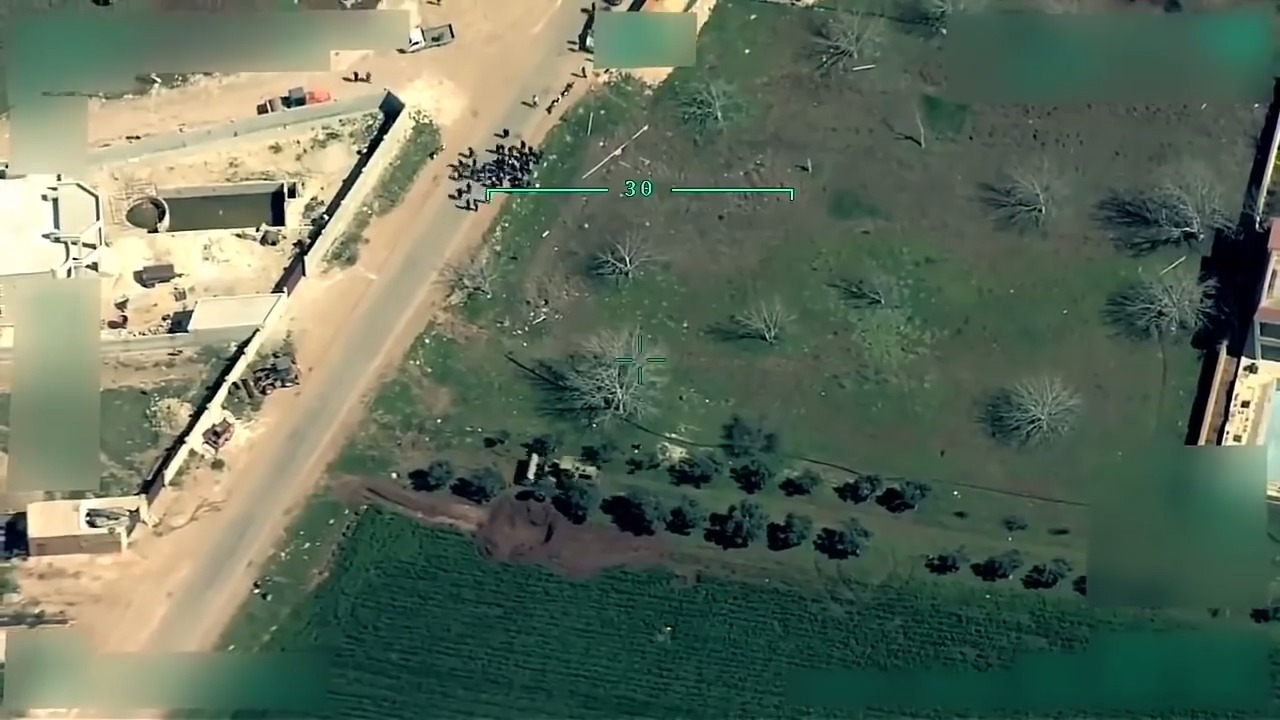arac: (510, 438, 610, 490), (250, 78, 335, 124), (241, 353, 313, 404), (398, 9, 463, 65)
insan: (520, 85, 548, 109), (461, 178, 477, 195), (463, 144, 478, 162)
